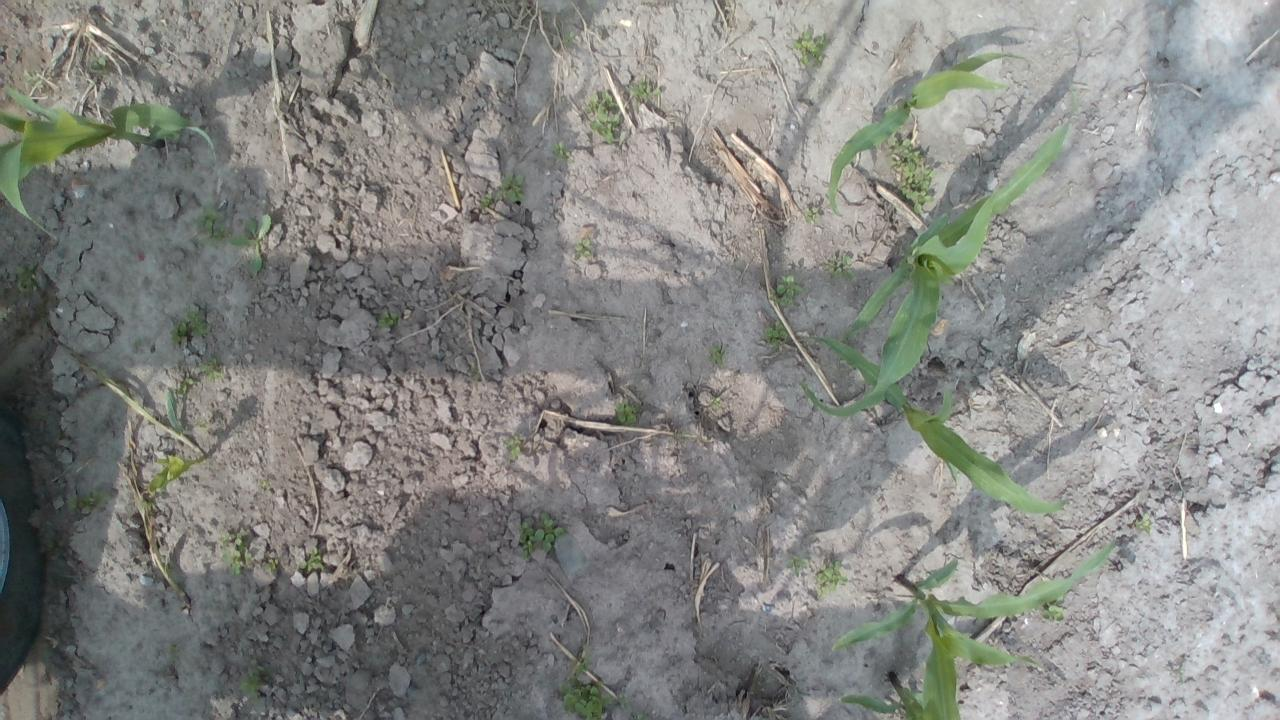Maize: (799, 76, 1079, 419), (833, 537, 1113, 720), (806, 334, 1071, 512), (827, 50, 1030, 217), (0, 84, 216, 239), (836, 667, 926, 720)
Weeds: (888, 135, 939, 215), (230, 212, 272, 275), (560, 676, 616, 720), (584, 88, 624, 146), (518, 512, 564, 560), (144, 452, 192, 495), (168, 303, 208, 350), (197, 206, 233, 246), (220, 532, 252, 576), (790, 30, 827, 66), (814, 561, 848, 599), (770, 274, 806, 308), (70, 487, 108, 512), (825, 253, 858, 280), (628, 77, 662, 103), (498, 174, 526, 203), (765, 318, 790, 350), (297, 546, 324, 574), (614, 399, 640, 428), (15, 260, 38, 291), (1040, 594, 1064, 622), (200, 357, 224, 382), (239, 671, 259, 698), (504, 434, 522, 461), (708, 342, 726, 369), (176, 374, 196, 396), (551, 142, 573, 162), (377, 310, 400, 328), (574, 655, 593, 676), (574, 238, 594, 257), (1134, 512, 1152, 532), (89, 54, 110, 70), (262, 558, 280, 576), (790, 554, 809, 570), (804, 206, 819, 224), (478, 191, 494, 207), (24, 70, 40, 85), (560, 30, 576, 45), (166, 641, 177, 655), (711, 397, 721, 410), (471, 366, 481, 378), (638, 712, 650, 720), (1178, 664, 1186, 674)
